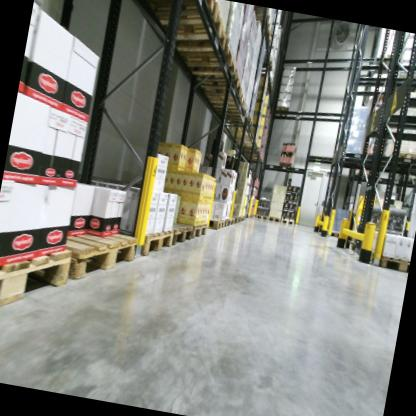pallet: (359, 69, 416, 273), (0, 234, 75, 324), (55, 219, 139, 290), (146, 0, 234, 60), (166, 28, 241, 80), (234, 150, 269, 221), (128, 0, 215, 26), (190, 61, 246, 99), (133, 221, 175, 262), (198, 80, 249, 110), (202, 93, 252, 121), (210, 104, 256, 128), (372, 49, 402, 80), (249, 11, 277, 44), (163, 218, 194, 247), (388, 146, 416, 170), (255, 50, 278, 72), (188, 221, 208, 242), (232, 142, 262, 155), (206, 216, 225, 231), (273, 104, 290, 119), (280, 216, 294, 226), (267, 215, 281, 224), (228, 215, 236, 226), (222, 218, 230, 228), (227, 218, 233, 227)
